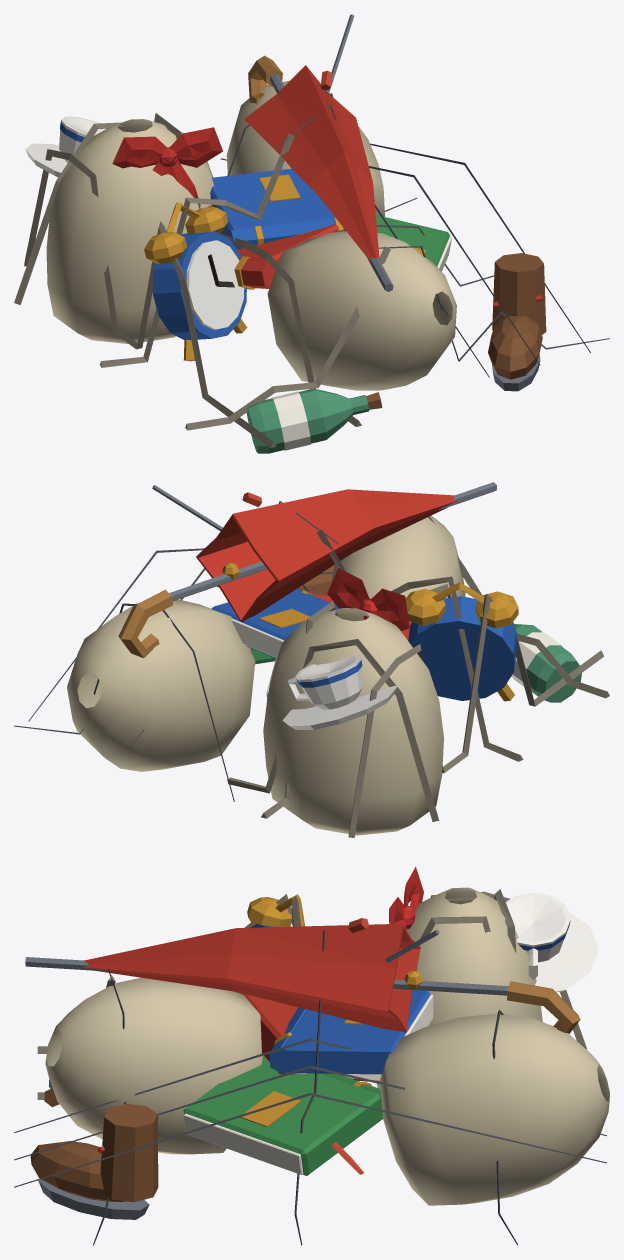
Rendered from OfferingPile.fbx.
The picture shows the model from 3 angles, top to bottom: view 1: azimuth 30°, elevation 25°; view 2: azimuth 150°, elevation 25°; view 3: azimuth 270°, elevation 25°; orthographic projection. The views are drawn at different scales.
Visible parts, largest first — view 1: Pile, Lines; view 2: Pile, Lines; view 3: Pile, Lines.
Boxes of the visible parts, left/top/right/bottom form: Pile: left=14, top=14, right=546, bottom=453; Lines: left=163, top=93, right=609, bottom=377; Pile: left=67, top=482, right=609, bottom=837; Lines: left=14, top=501, right=338, bottom=801; Pile: left=25, top=866, right=609, bottom=1219; Lines: left=14, top=930, right=606, bottom=1245.
Size of the model in its own units: 1.06 by 0.6535 by 1.2.
